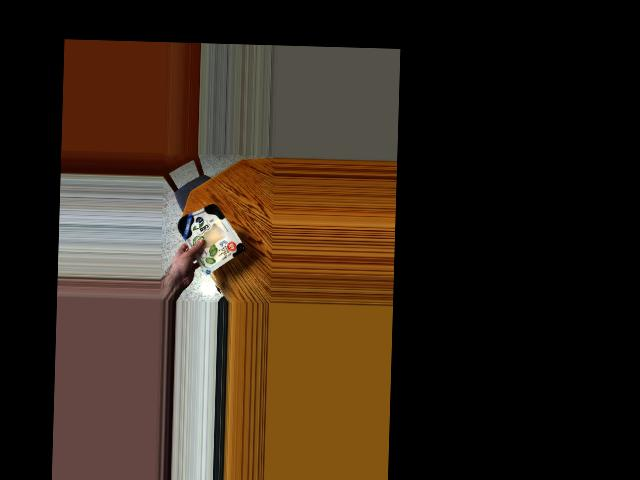cheese: (172, 205, 242, 264)
